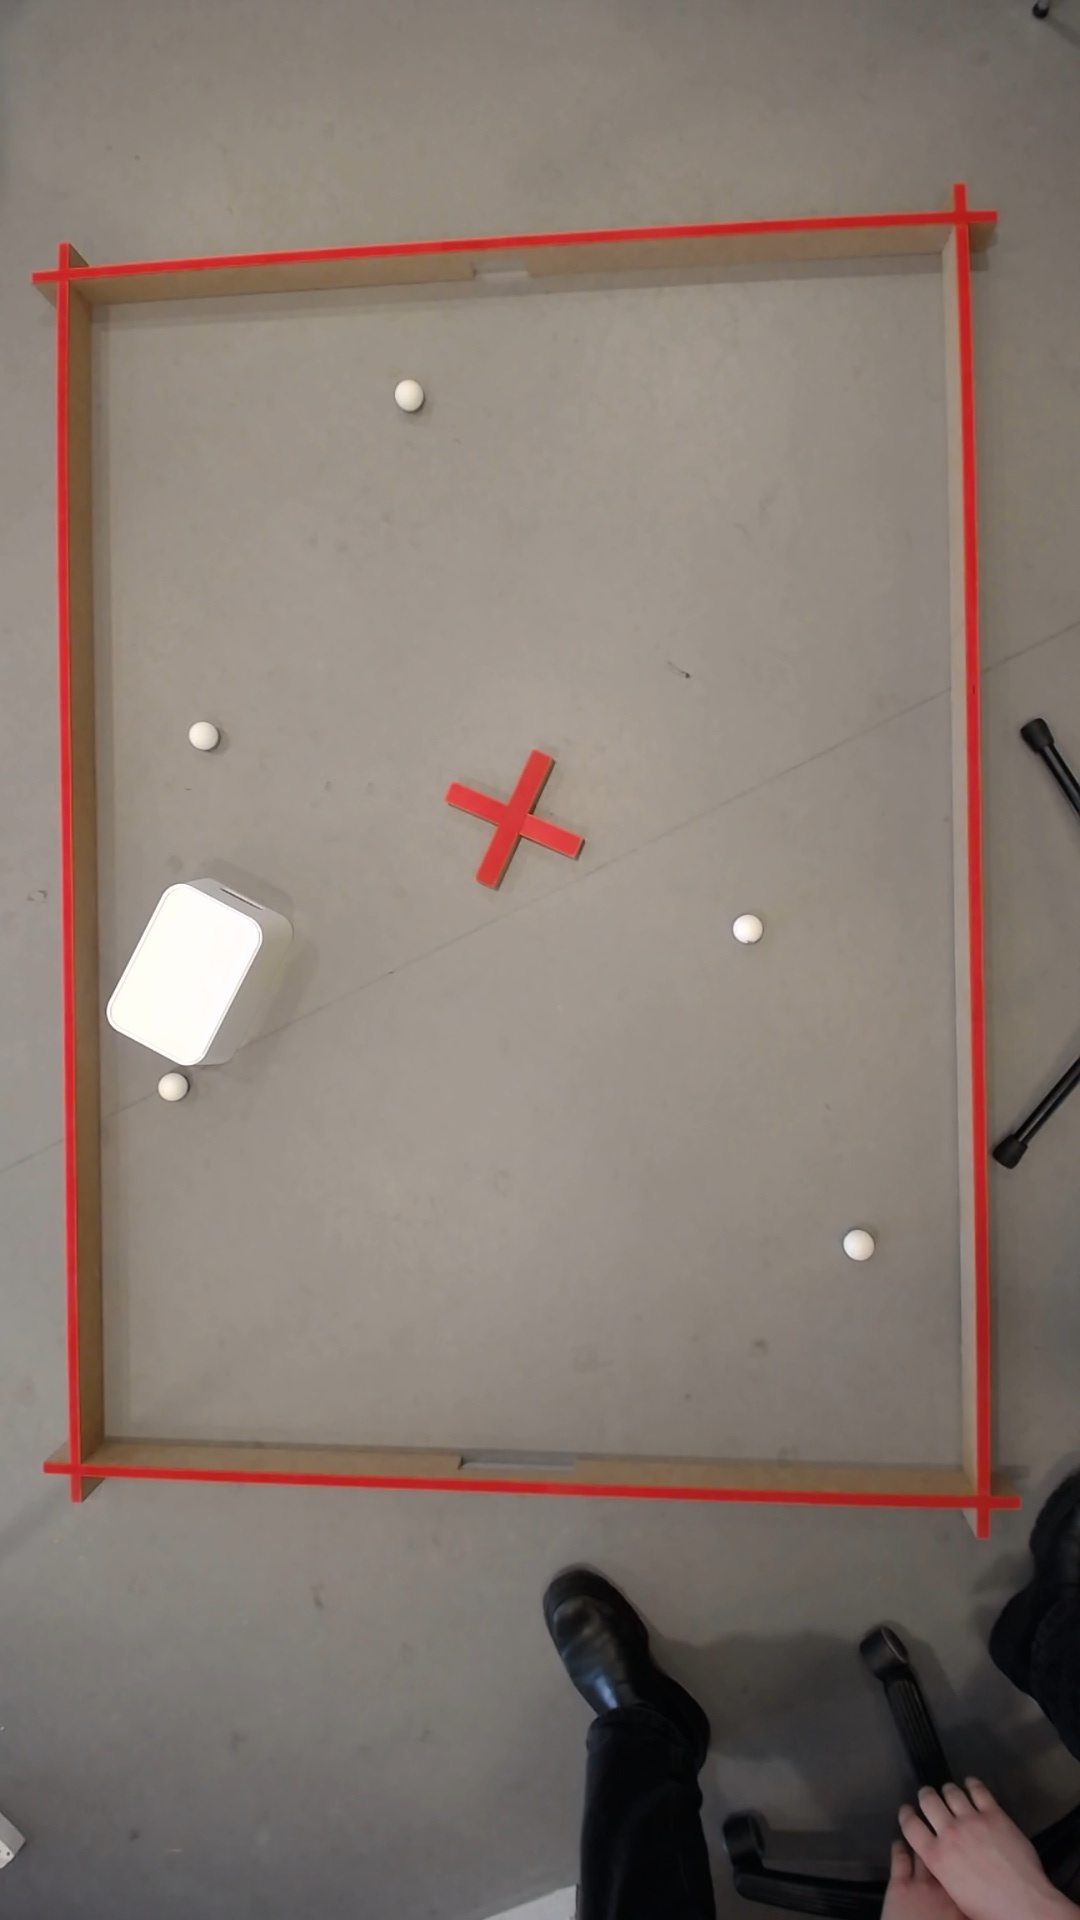balls: (96, 874, 270, 1072), (837, 1229, 869, 1261), (389, 376, 419, 409), (732, 915, 757, 942), (189, 723, 208, 746)
car: (154, 1072, 181, 1101)
